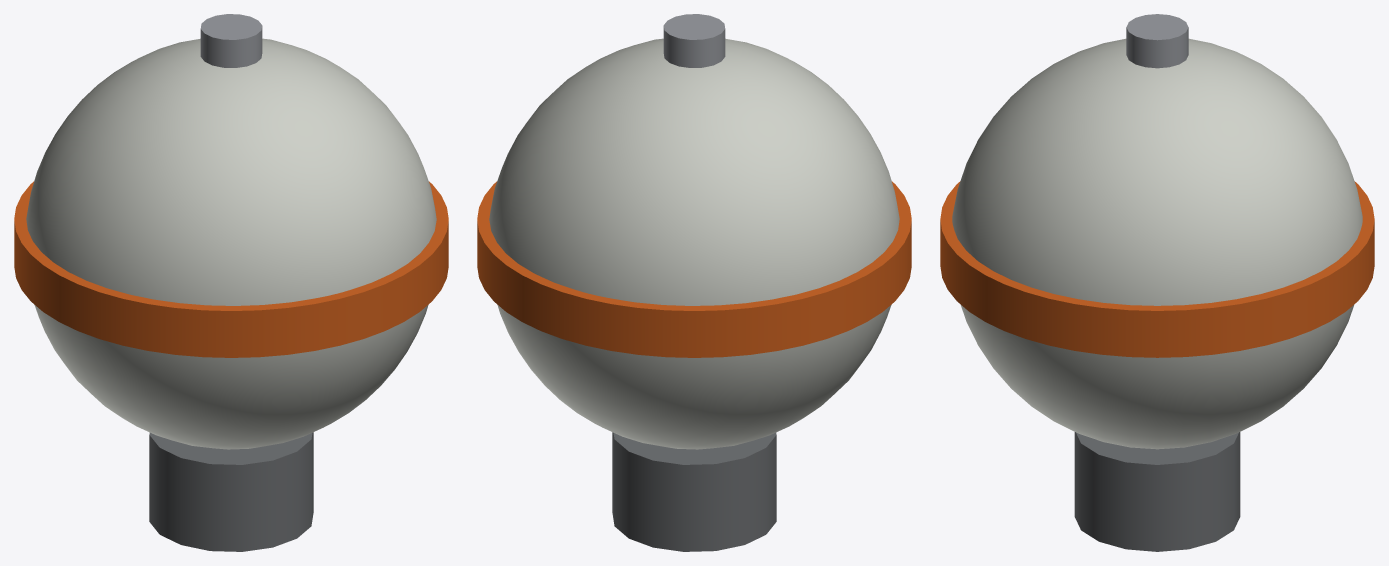
Rendered from o4_water.obj.
The picture shows the model from 3 angles, left to right: view 1: azimuth 30°, elevation 25°; view 2: azimuth 150°, elevation 25°; view 3: azimuth 270°, elevation 25°; orthographic projection.
Visible parts, largest first — view 1: o4_water; view 2: o4_water; view 3: o4_water.
Boxes of the visible parts, x1=… form: o4_water: x1=14, y1=14, x2=448, y2=551; o4_water: x1=477, y1=14, x2=911, y2=551; o4_water: x1=940, y1=14, x2=1374, y2=551.
Bounding box in the file's own units: 0.84 × 1.05 × 0.84.
